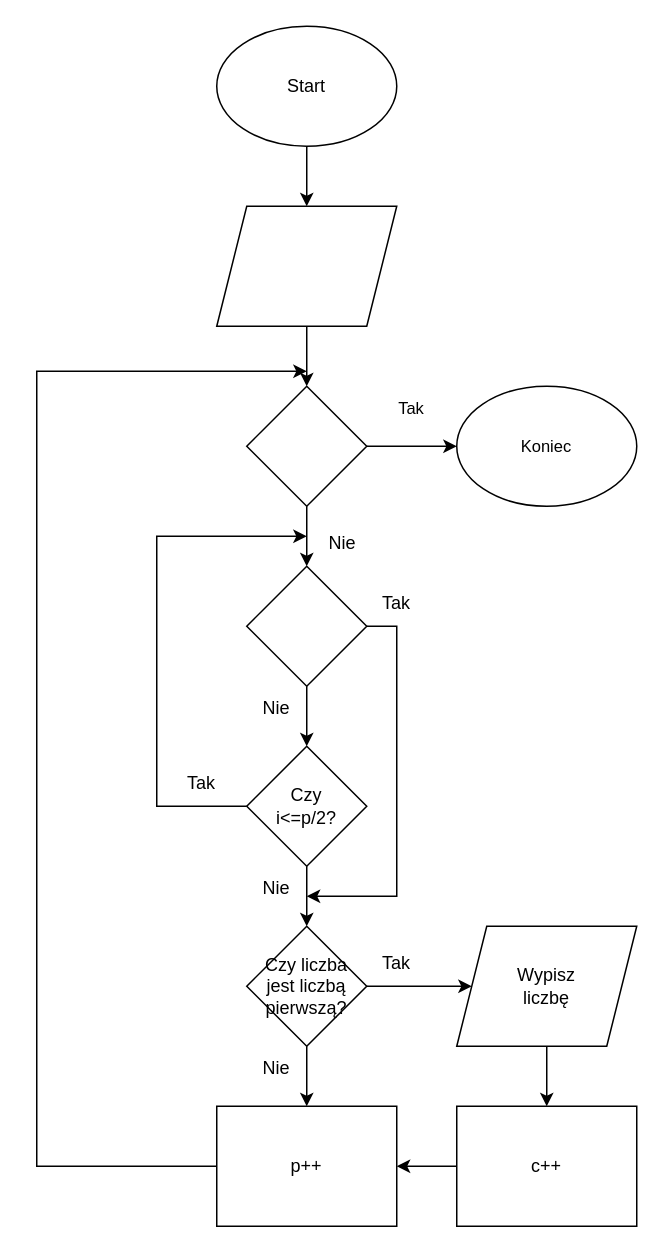
Some shapes in this 663 by 1253 pixel diagram are drawn without their labels. The shapes that lost their labels are listed below. From the top down, each one's centre as x and y in pixels, then its label:
pixel 306 265: Podaj liczbę liczb pierwszych do wypisania
pixel 306 445: Czy podana liczba liczb została wyświetlona?
pixel 306 625: Czy p%i==0?
